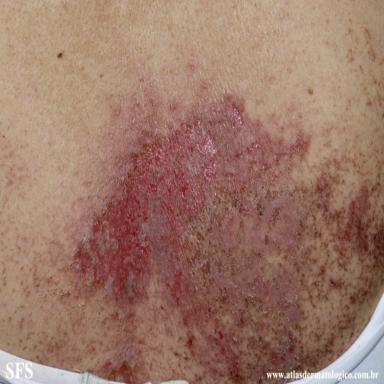Darier_s-Disease: (2, 74, 384, 384)
